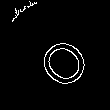O_NW: (22, 22, 88, 88)
